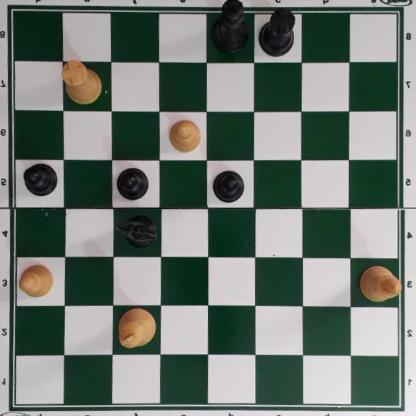black-king: (210, 1, 250, 55)
black-knight: (115, 212, 157, 249)
black-pawn: (24, 162, 59, 196), (212, 170, 246, 203), (117, 165, 149, 200)
black-rook: (257, 7, 298, 57)
white-bishop: (359, 264, 403, 304)
white-king: (117, 305, 159, 348)
white-pawn: (19, 262, 55, 298), (169, 117, 203, 153)
white-rook: (60, 58, 104, 105)
